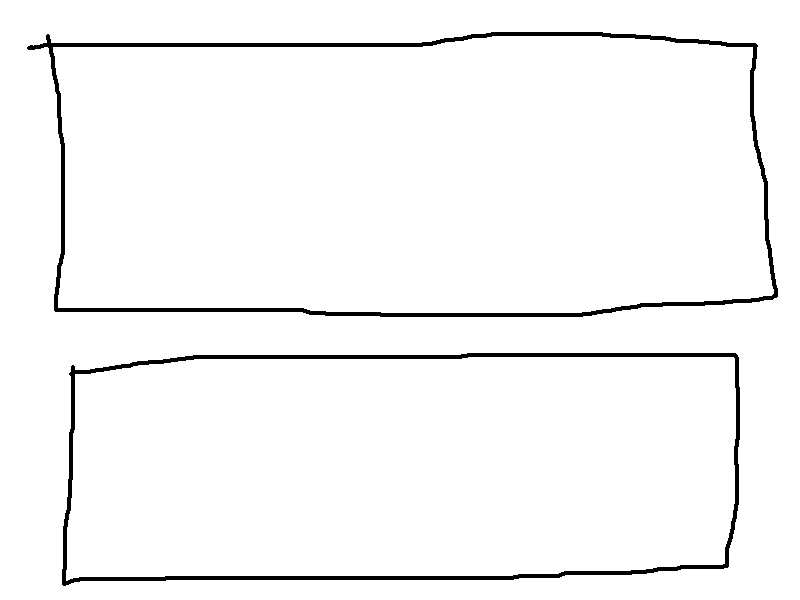rect: (25, 25, 782, 324), (59, 344, 753, 589)
